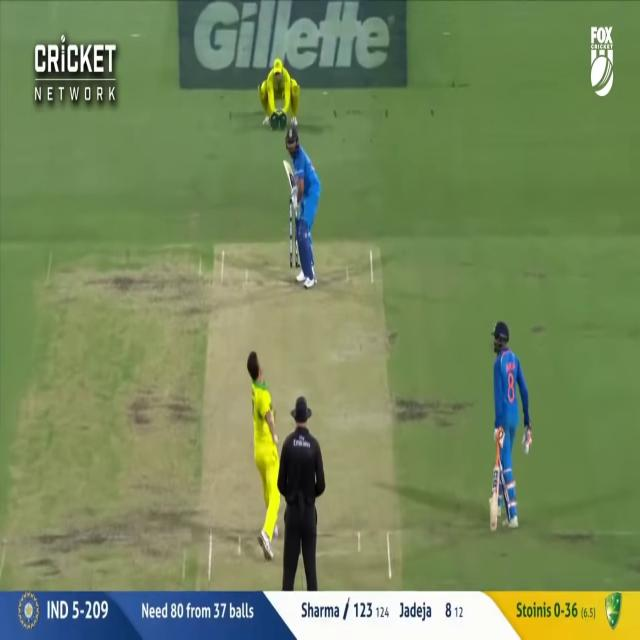stump: (289, 189, 300, 261)
